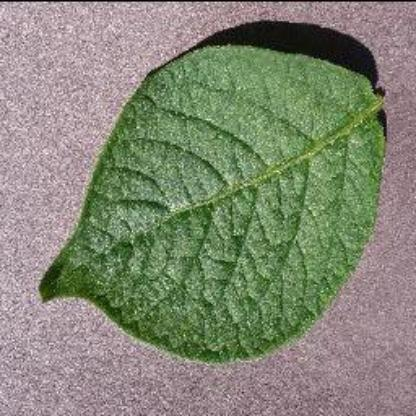Healthy-plant: (36, 32, 396, 368)
